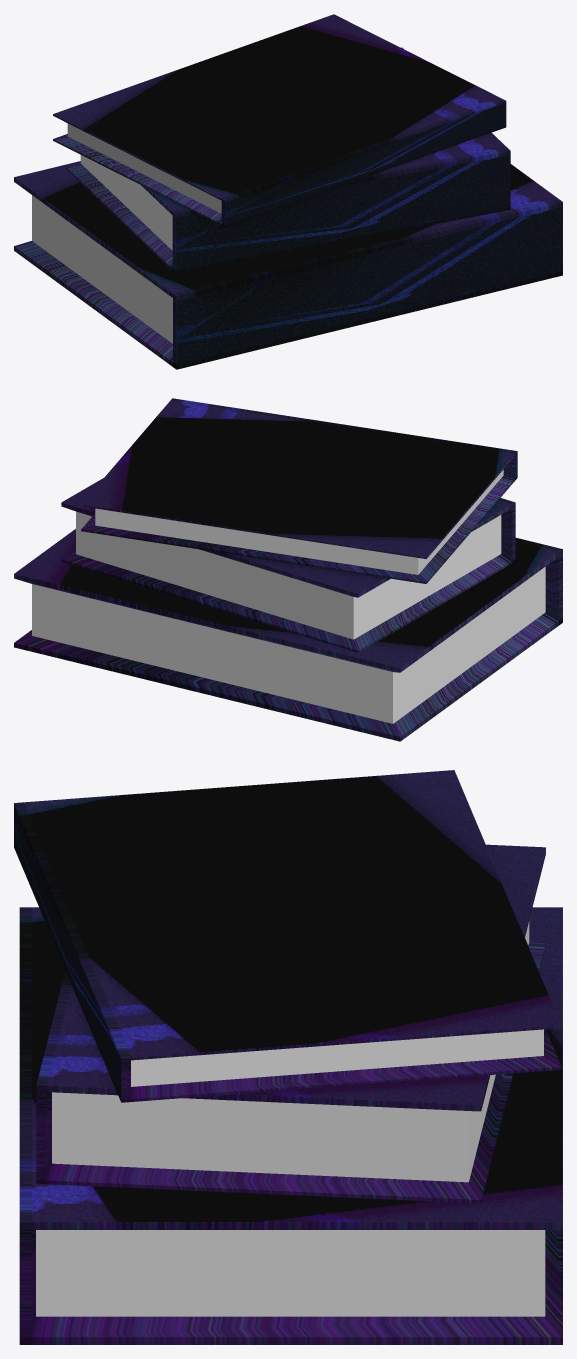
File: books.fbx
3 renders of one model, top to bottom at view 1: azimuth 30°, elevation 25°; view 2: azimuth 150°, elevation 25°; view 3: azimuth 270°, elevation 25°, orthographic. The views are drawn at different scales.
Visible parts, largest first — view 1: book stack; view 2: book stack; view 3: book stack.
Part boxes in pixels (x1,y1,x2,y2): book stack: (14, 14, 562, 369); book stack: (14, 398, 562, 741); book stack: (14, 770, 562, 1344).
Bounding box in the file's own units: 57.83 × 22.71 × 42.61.
